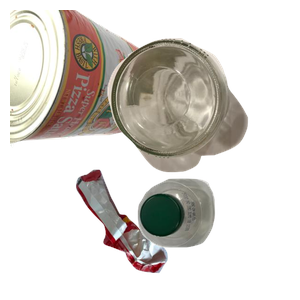glass: (105, 36, 300, 201)
metal: (10, 10, 159, 152)
plastic: (135, 176, 300, 300)
trash: (74, 167, 235, 300)
